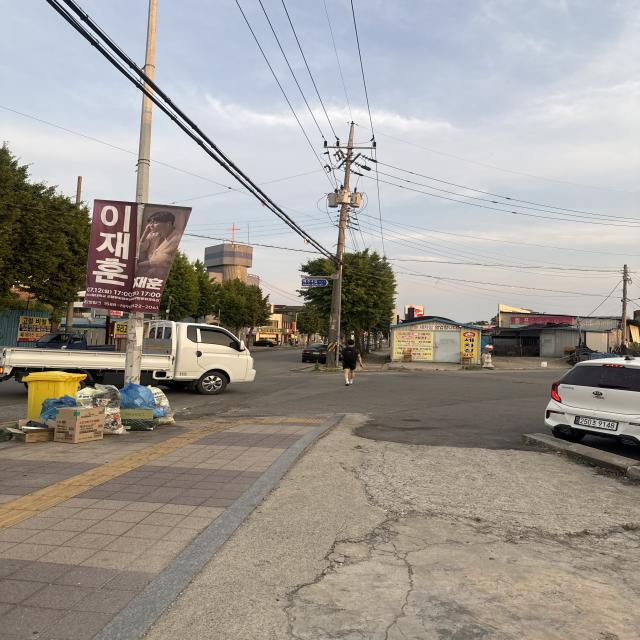car: (0, 296, 286, 416), (531, 344, 640, 454), (298, 339, 329, 367)
